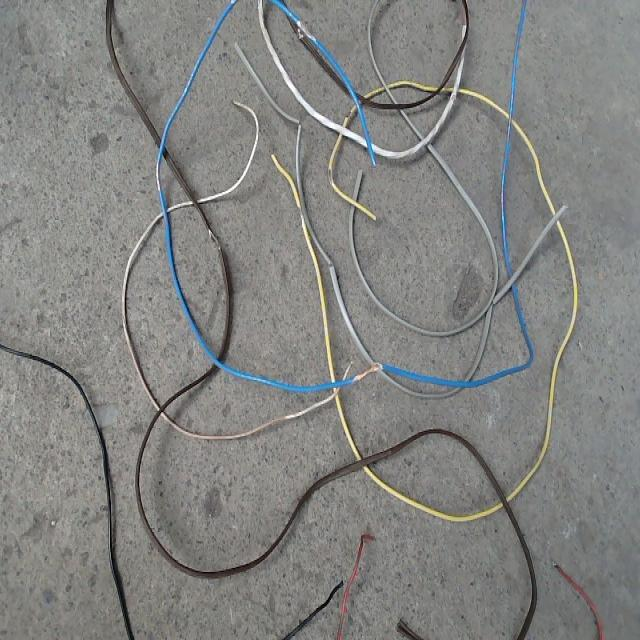-: (352, 362, 381, 378), (296, 19, 315, 40), (206, 227, 220, 249), (154, 161, 162, 188), (327, 166, 334, 186)
